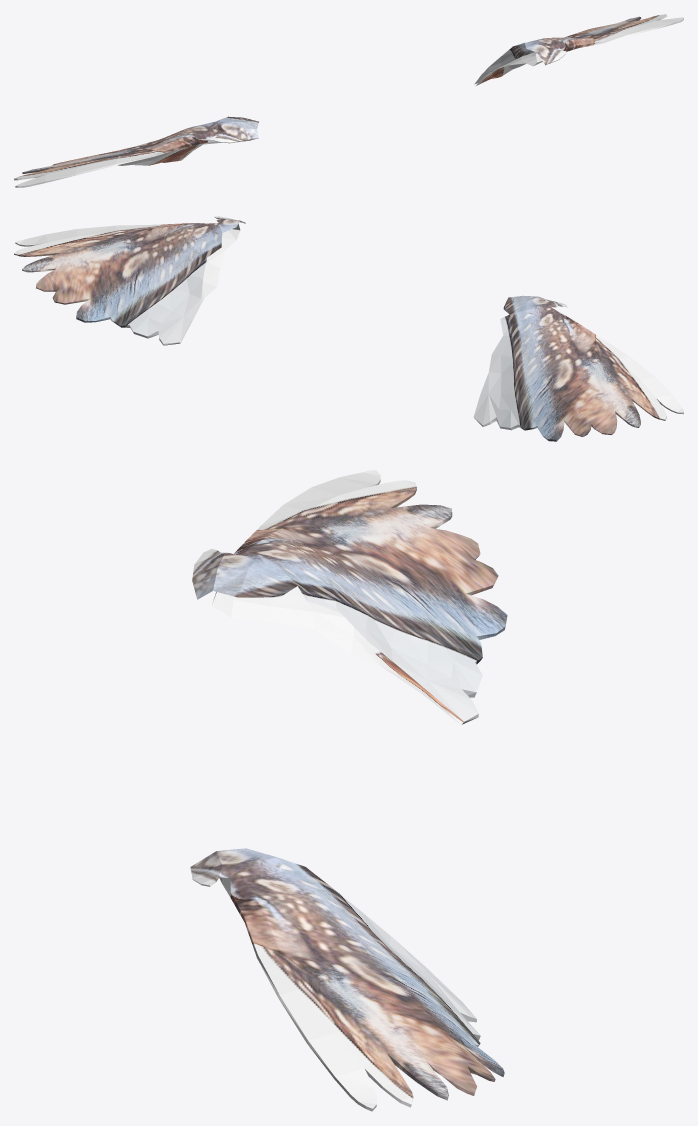
File: puntaALA.obj
3 views of the same model, one above another, from view 1: azimuth 30°, elevation 25°; view 2: azimuth 150°, elevation 25°; view 3: azimuth 270°, elevation 25° (orthographic). The views are drawn at different scales.
Parts seen in each view (by area): view 1: polySurface17; view 2: polySurface17; view 3: polySurface17.
Boxes of the visible parts, x1=… form: polySurface17: x1=14, y1=14, x2=683, y2=187; polySurface17: x1=14, y1=216, x2=683, y2=441; polySurface17: x1=190, y1=470, x2=507, y2=1111.
Size of the model in its own units: 3.79 by 0.4544 by 0.78.
